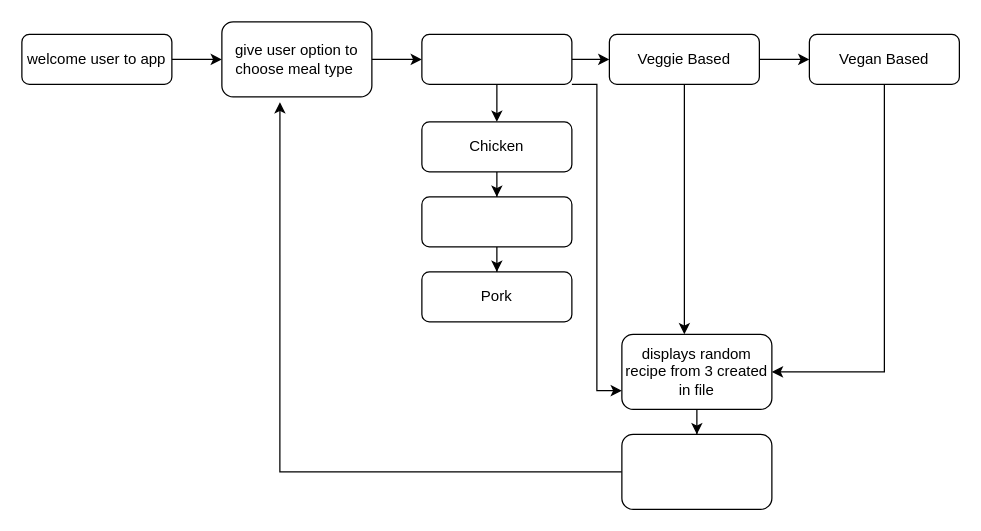
This 981x531 diagram has some shape labels left out. Here are the shapes that lost their labels. From the top down, the box of each, then its label:
(421, 33, 572, 84): Meat Based
(421, 196, 572, 247): Beef
(621, 433, 772, 509): leads user back into food option choice menu
